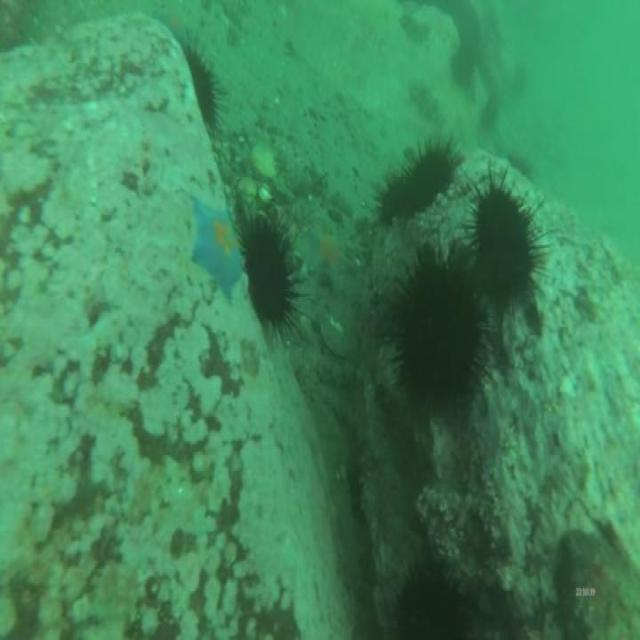echinus: (380, 242, 490, 422), (463, 156, 555, 314), (239, 202, 310, 352), (387, 551, 478, 640), (176, 27, 228, 137), (406, 134, 460, 209), (375, 161, 427, 228), (452, 38, 476, 93), (453, 0, 482, 44)
holothurian: (404, 73, 448, 134), (396, 8, 436, 52)
scallop: (317, 308, 352, 365)
starfish: (188, 194, 245, 305), (305, 220, 355, 290)
